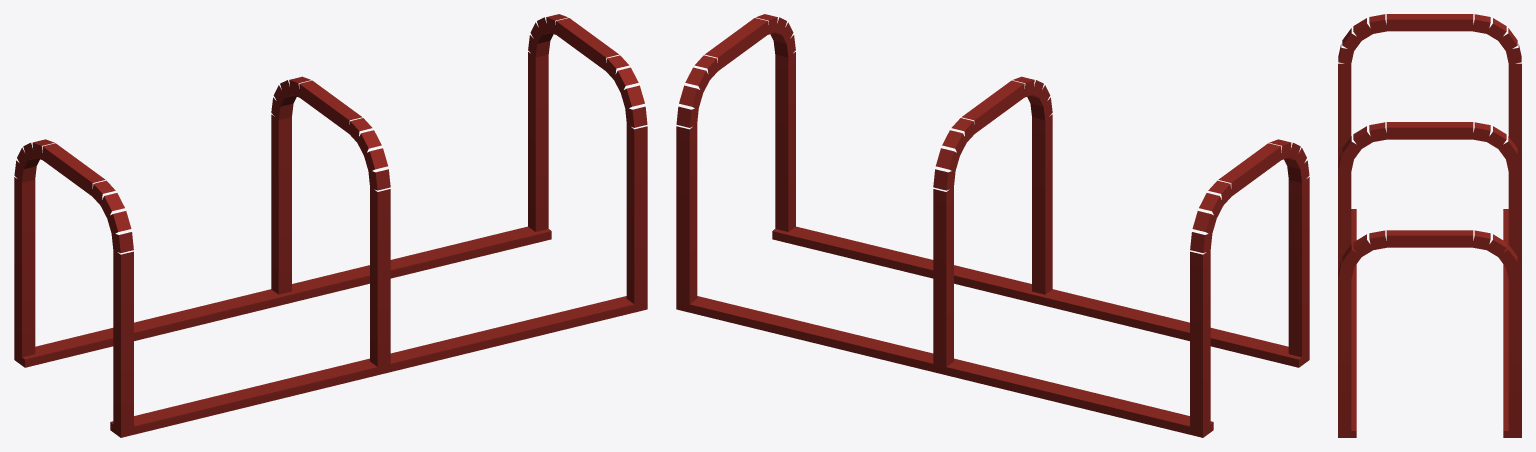
The model's file is street.bike_rack.red.glb.
The picture shows the model from 3 angles, left to right: view 1: azimuth 30°, elevation 25°; view 2: azimuth 150°, elevation 25°; view 3: azimuth 270°, elevation 25°; orthographic projection. The views are drawn at different scales.
Parts seen in each view (by area): view 1: street_bike_rack_red; view 2: street_bike_rack_red; view 3: street_bike_rack_red.
Part boxes in pixels (box(x1,y1,x2,y2)): street_bike_rack_red: box(14, 14, 647, 437); street_bike_rack_red: box(676, 14, 1309, 437); street_bike_rack_red: box(1338, 14, 1521, 437).
Size of what is drawn, in the model's own units: 2 by 0.85 by 0.7.
